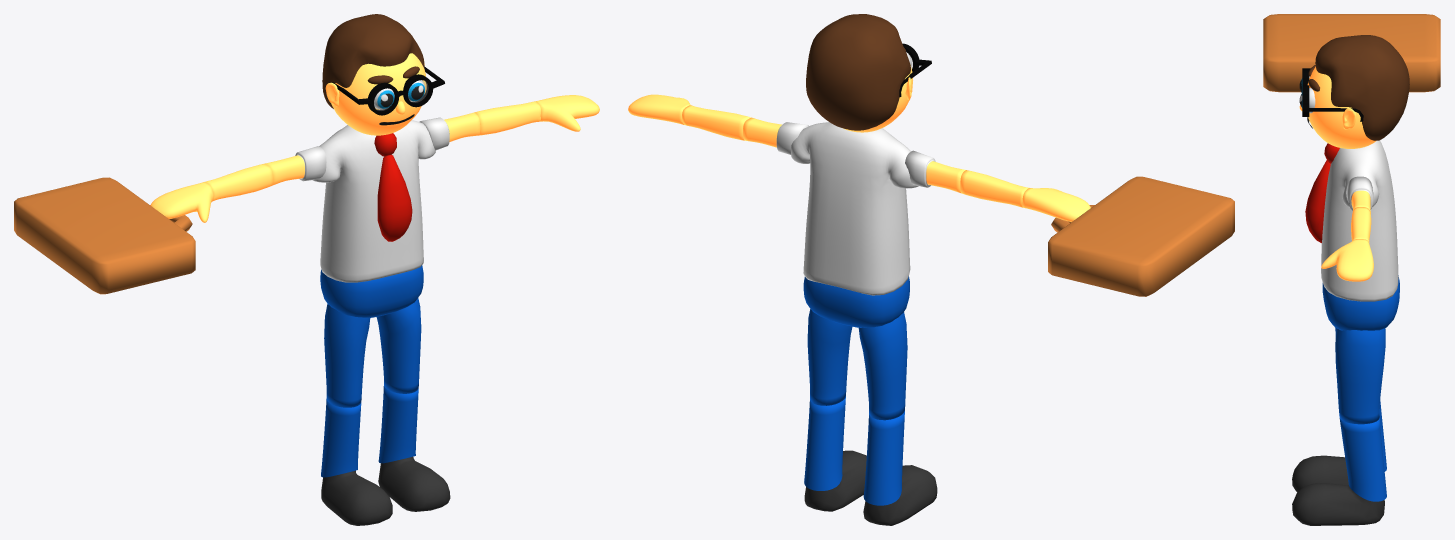
3 views of the same model, side by side, from view 1: azimuth 30°, elevation 25°; view 2: azimuth 150°, elevation 25°; view 3: azimuth 270°, elevation 25° (orthographic). The views are drawn at different scales.
Parts seen in each view (by area): view 1: body, Briefcase, head, r_upper_leg, pelvis, l_upper_leg, r_foot, l_foot, r_leg, l_leg, r_hand, l_hand (+5 smaller); view 2: body, Briefcase, head, r_upper_leg, pelvis, l_upper_leg, r_leg, l_leg, r_foot, l_foot, r_hand, r_forearm (+4 smaller); view 3: head, body, Briefcase, l_upper_leg, l_foot, l_leg, pelvis, l_hand, r_foot, l_arm, l_forearm, Glasses.
Boxes of the visible parts, x1=… form: body: x1=312, y1=120, x2=435, y2=282; Briefcase: x1=14, y1=177, x2=195, y2=294; head: x1=322, y1=14, x2=426, y2=135; r_upper_leg: x1=324, y1=304, x2=370, y2=407; pelvis: x1=320, y1=265, x2=423, y2=317; l_upper_leg: x1=376, y1=298, x2=421, y2=393; r_foot: x1=321, y1=470, x2=392, y2=525; l_foot: x1=378, y1=456, x2=450, y2=511; r_leg: x1=321, y1=399, x2=361, y2=477; l_leg: x1=378, y1=386, x2=418, y2=463; r_hand: x1=150, y1=182, x2=213, y2=222; l_hand: x1=535, y1=95, x2=599, y2=131; body: x1=791, y1=122, x2=918, y2=295; Briefcase: x1=1048, y1=176, x2=1234, y2=296; head: x1=806, y1=14, x2=912, y2=132; r_upper_leg: x1=858, y1=312, x2=907, y2=420; pelvis: x1=803, y1=276, x2=909, y2=327; l_upper_leg: x1=807, y1=309, x2=852, y2=405; r_leg: x1=863, y1=411, x2=904, y2=505; l_leg: x1=804, y1=396, x2=845, y2=490; r_foot: x1=863, y1=465, x2=937, y2=525; l_foot: x1=804, y1=450, x2=866, y2=511; r_hand: x1=1022, y1=188, x2=1090, y2=222; r_forearm: x1=960, y1=170, x2=1029, y2=207; head: x1=1299, y1=35, x2=1409, y2=148; body: x1=1305, y1=140, x2=1398, y2=301; Briefcase: x1=1263, y1=14, x2=1440, y2=92; l_upper_leg: x1=1335, y1=328, x2=1385, y2=424; l_foot: x1=1292, y1=483, x2=1384, y2=525; l_leg: x1=1339, y1=418, x2=1386, y2=501; pelvis: x1=1322, y1=275, x2=1399, y2=330; l_hand: x1=1321, y1=239, x2=1373, y2=281; r_foot: x1=1292, y1=455, x2=1348, y2=492; l_arm: x1=1346, y1=176, x2=1373, y2=212; l_forearm: x1=1351, y1=207, x2=1371, y2=242; Glasses: x1=1302, y1=68, x2=1363, y2=121.
Bounding box in the file's own units: 3.92 × 3.26 × 1.13.
Materials: 11 (2 with a texture image).
